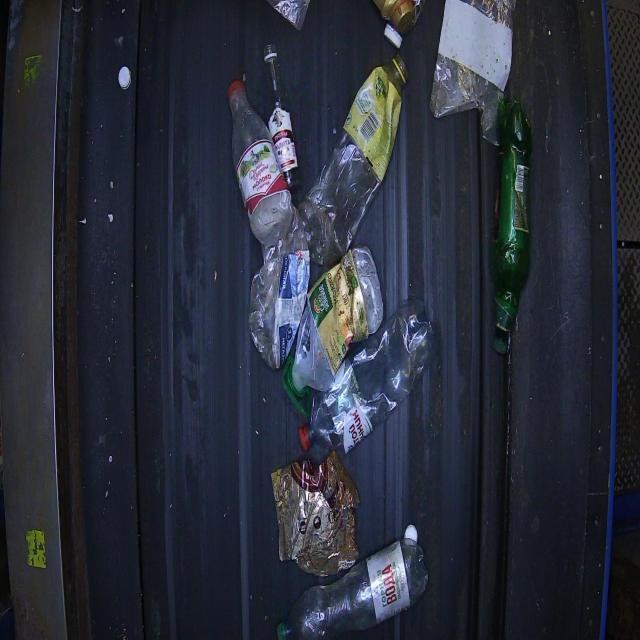bottles: (226, 77, 293, 247), (490, 98, 532, 355), (262, 42, 301, 191)
cups: (275, 523, 429, 639)
